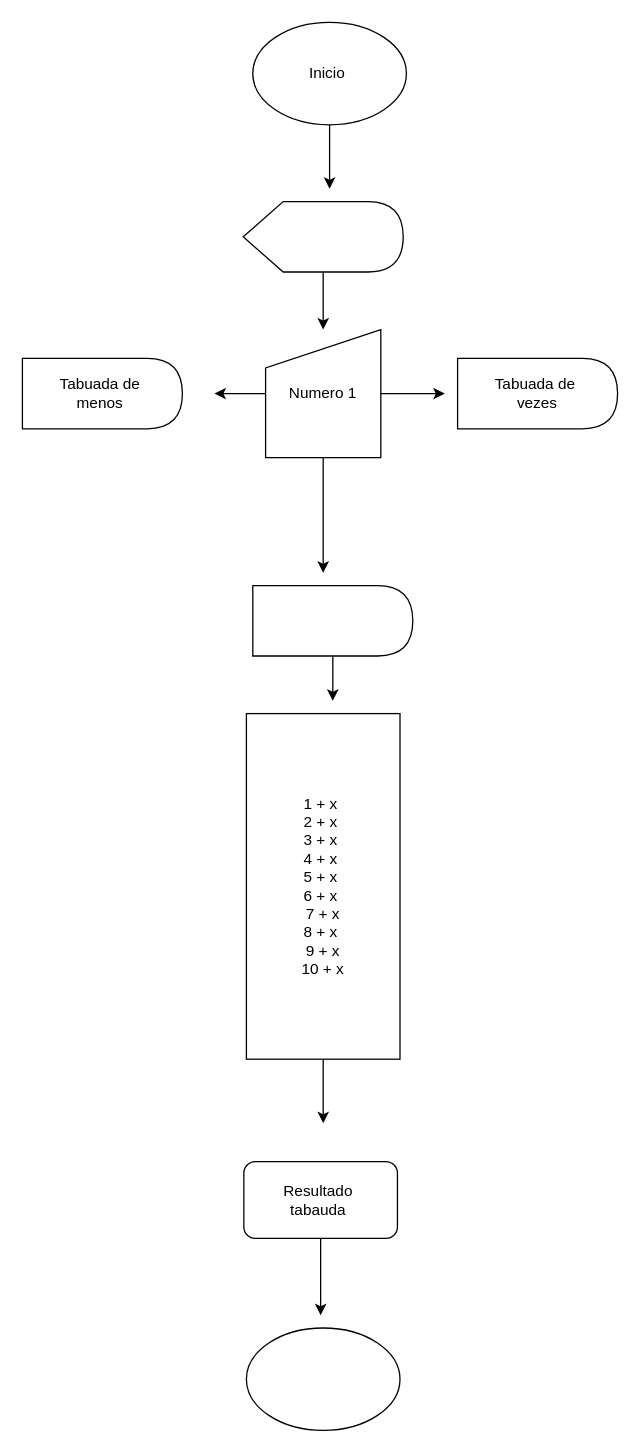
Some shapes in this 640 by 1453 pixel diagram are drawn without their labels. The shapes that lost their labels are listed below. From the top down, each one's centre as x and y in pixels, then its label:
(x=322, y=236): Numero
(x=332, y=620): Tabuada de mais
(x=322, y=1378): Fim
